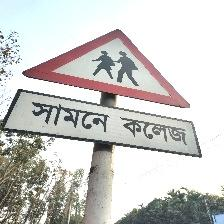College-in-front: (10, 30, 214, 173)
